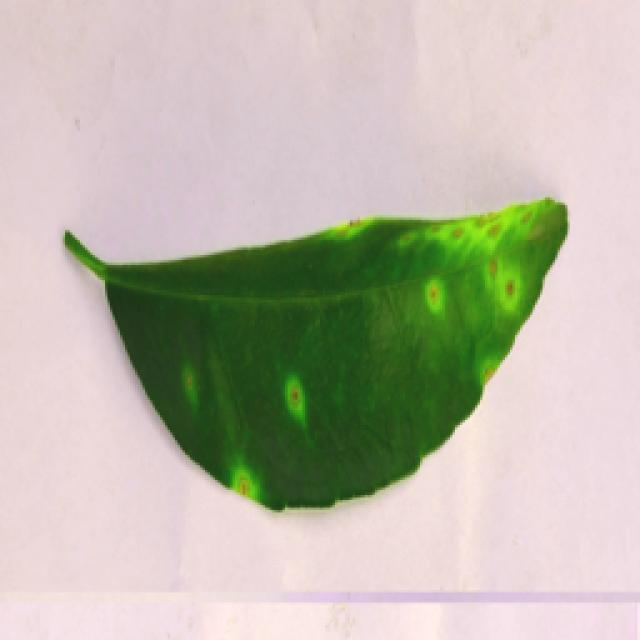canker: (116, 170, 568, 538)
